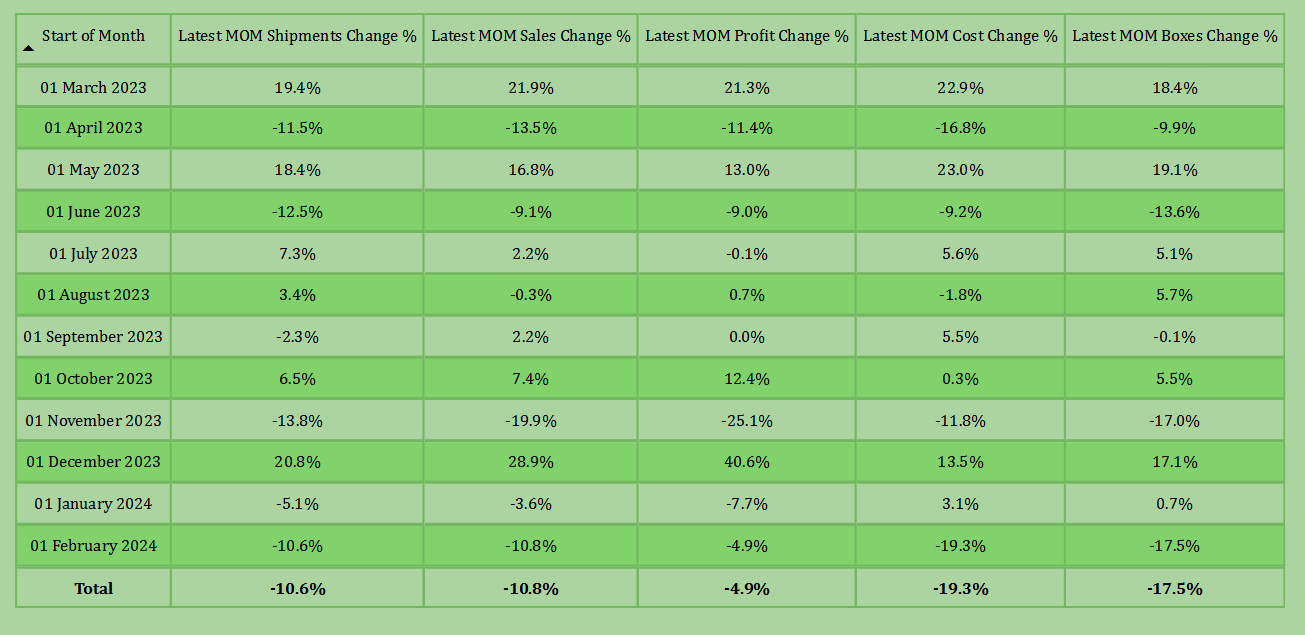

The dashboard page shown, as its layout file describes it:
{"tool":"powerbi","page":{"name":"MOM Total","canvas":[1280,720],"ordinal":3},"visuals":[{"type":"tableEx","fields":{"Values":["calendar.Start of Month","Measure.Latest MOM Shipments Change %","Measure.Latest MOM Sales Change %","Measure.Latest MOM Profit Change %","Measure.Latest MOM Cost Change %","Measure.Latest MOM Boxes Change %"]},"box":[0,23.1,1266.7,650.7],"z":1}]}

Visuals, with their boxes on the page's 1280x720 design canvas (x1, y1, x2, y2). These are canvas units, not pixel positions in the 1305x635 screenshot, which may show the page scaled, cropped or inside an application window:
tableEx - calendar.Start of Month x Measure.Latest MOM Shipments Change %: box=[0, 23, 1267, 674]
